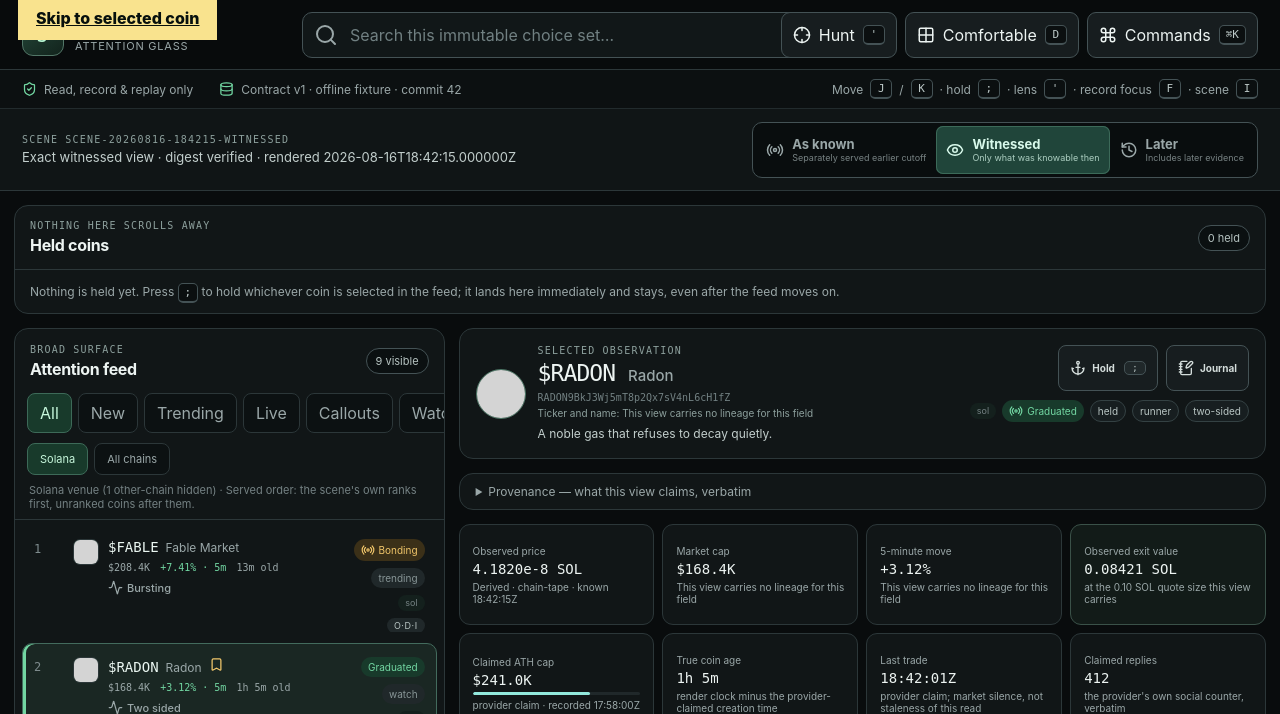
Test case: accessibility-first glass › supports semantic keyboard navigation without pointer precision
Expected: the heading "$RADON Radon" is shown, [538, 360, 674, 386]
Type keys "j"
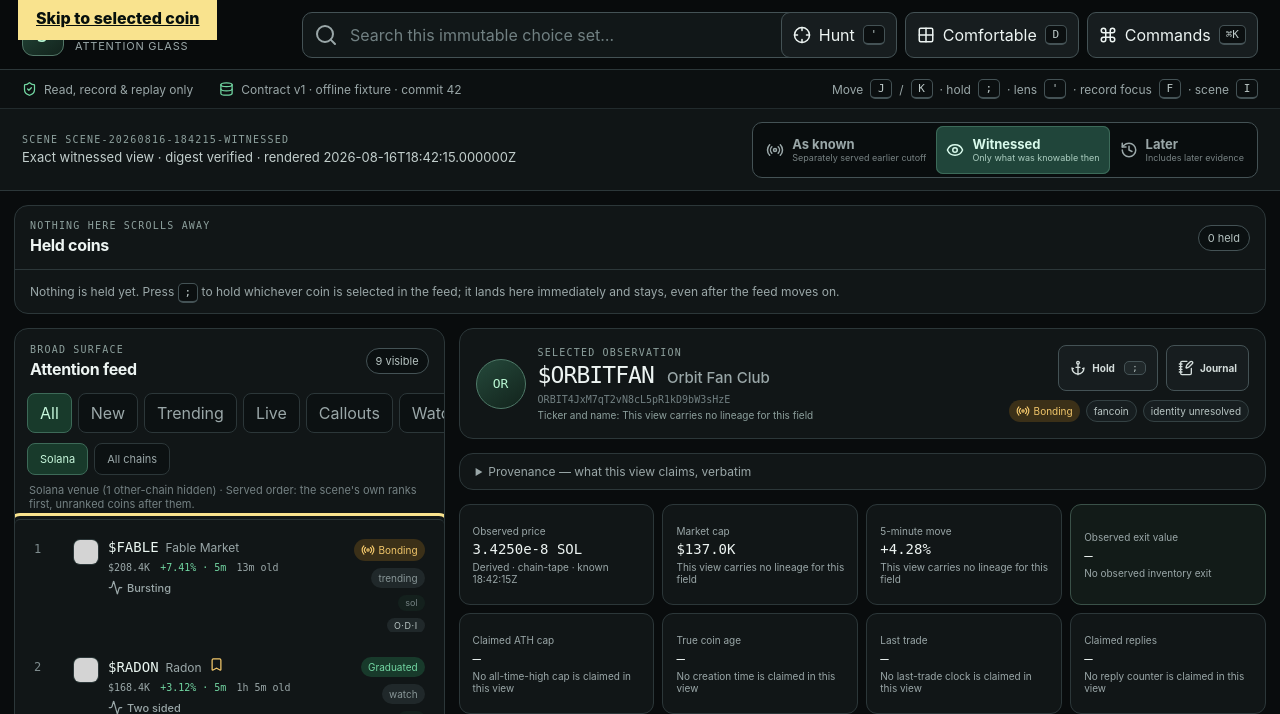
Expected: the heading "$ORBITFAN Orbit Fan Club" is shown, [538, 362, 770, 388]
Type keys "/"
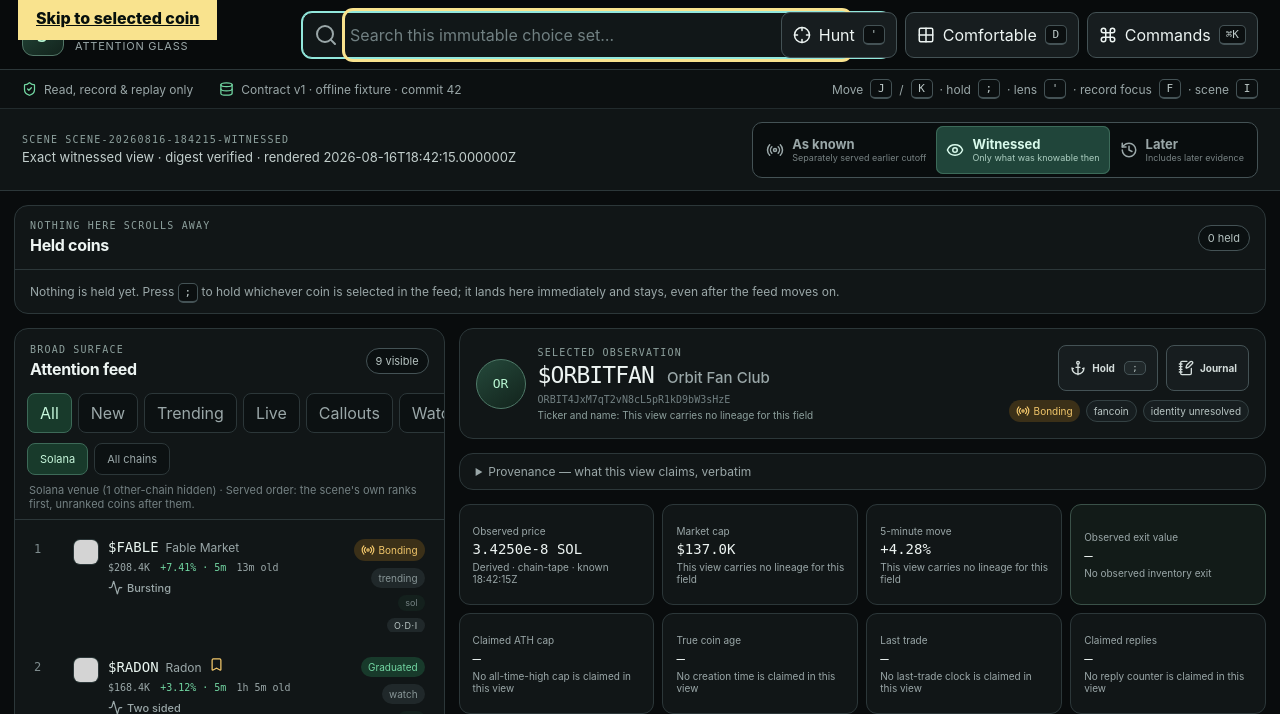
Type "fancoin" into the search field named "search candidates in this served snapshot".
click(598, 34); type("fancoin")  # box [348, 14, 847, 56]
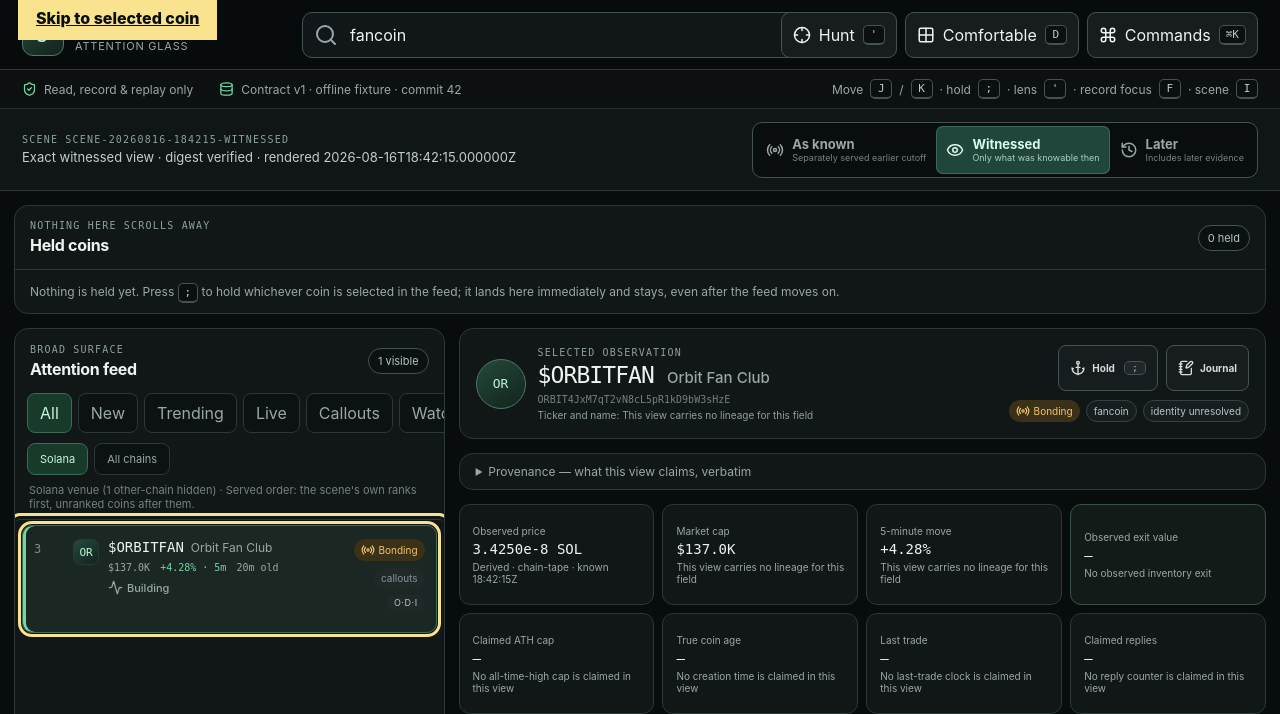
Expected: the option "ORBITFAN" is shown, [15, 520, 444, 638]
Clear the search field named "search candidates in this served snapshot" at point(598, 34), box [348, 14, 847, 56]
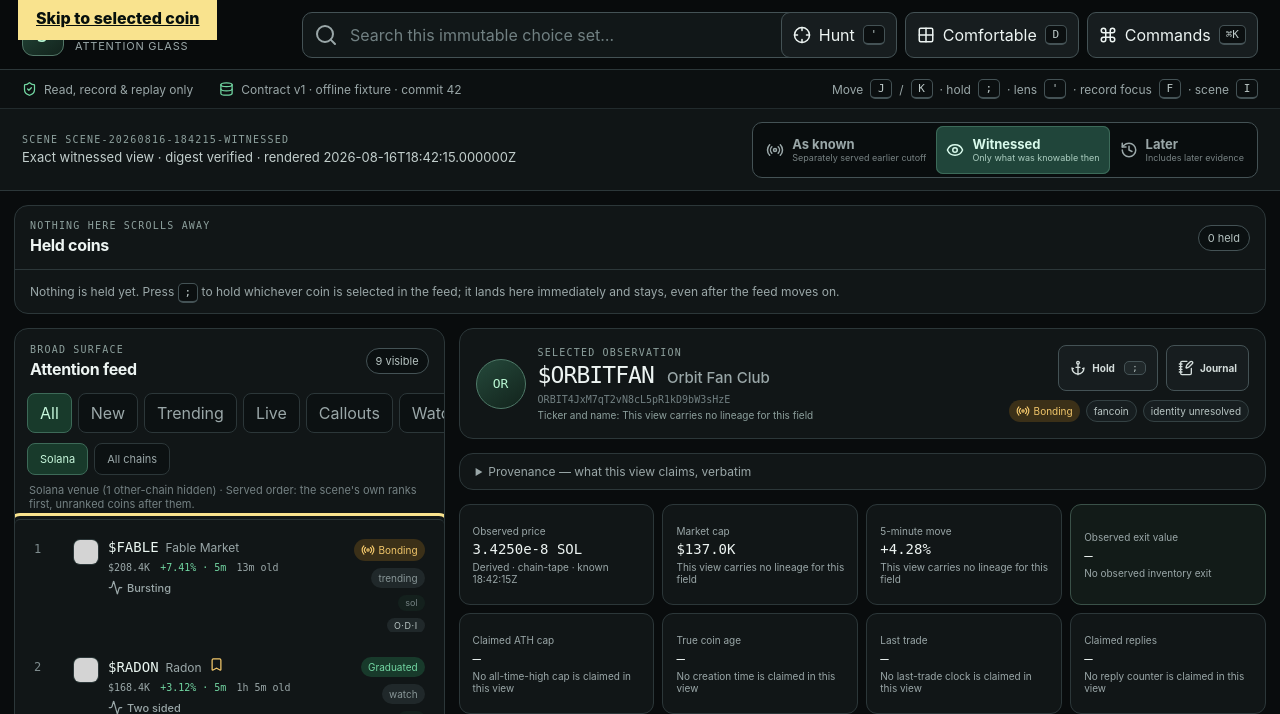
Type keys "r"
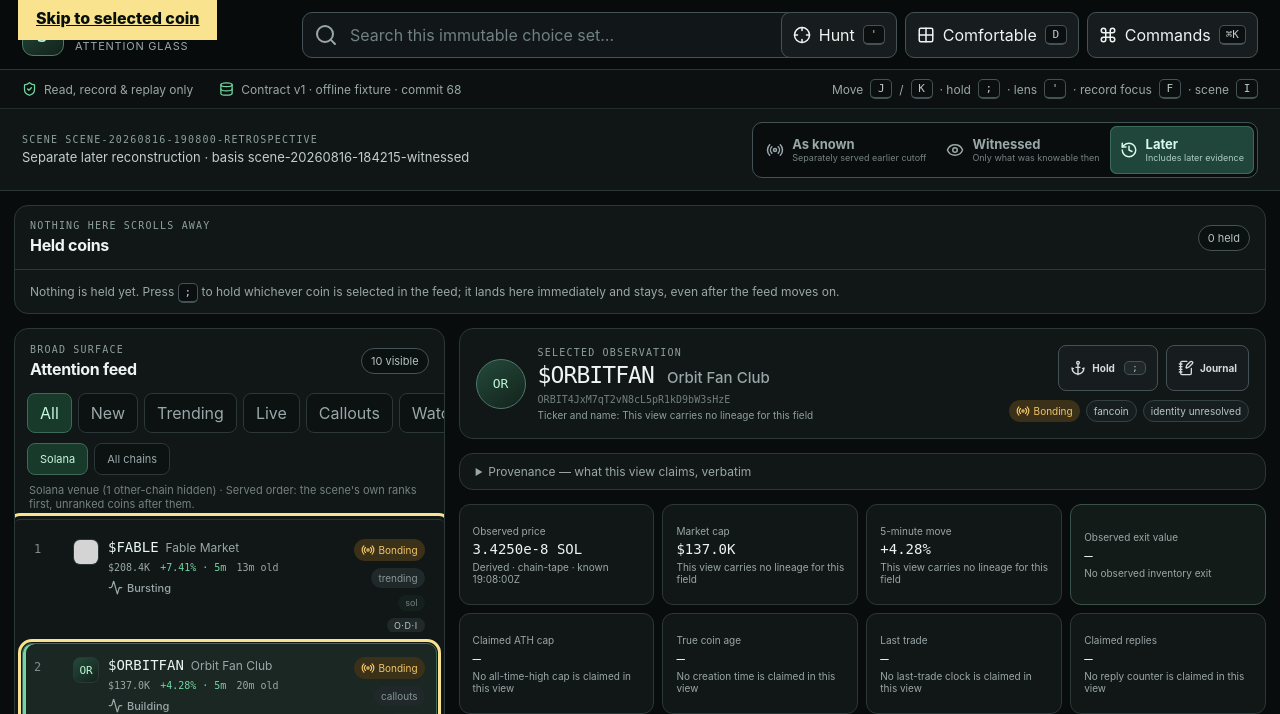
Expected: the text "Separate later reconstruction" is shown, [22, 149, 469, 165]
